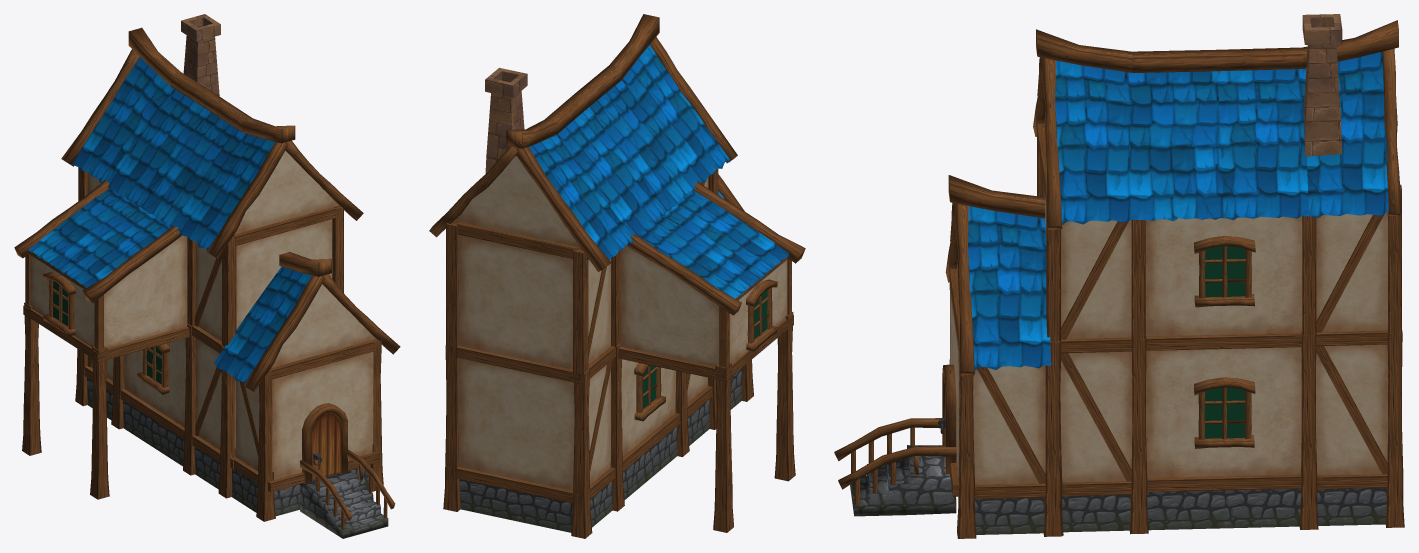
Rendered from SquareHouseC.obj.
3 views of the same model, side by side, from view 1: azimuth 30°, elevation 25°; view 2: azimuth 150°, elevation 25°; view 3: azimuth 270°, elevation 25° (orthographic). The views are drawn at different scales.
Visible parts, largest first — view 1: BH7; view 2: BH7; view 3: BH7.
Part boxes in pixels (left/top/right/bottom): BH7: left=14, top=14, right=400, bottom=538; BH7: left=429, top=14, right=805, bottom=538; BH7: left=834, top=14, right=1404, bottom=538.
Bounding box in the file's own units: 4.57 × 6.32 × 6.68.
3 materials, 2 textured.
